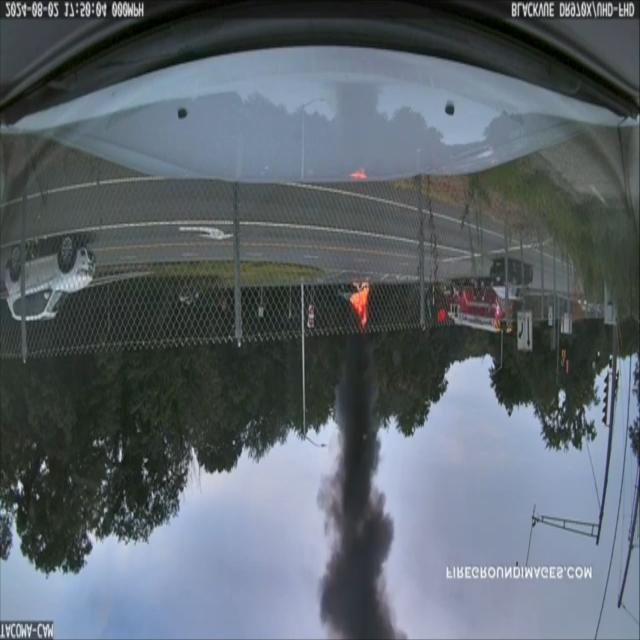fire: (347, 284, 372, 326)
